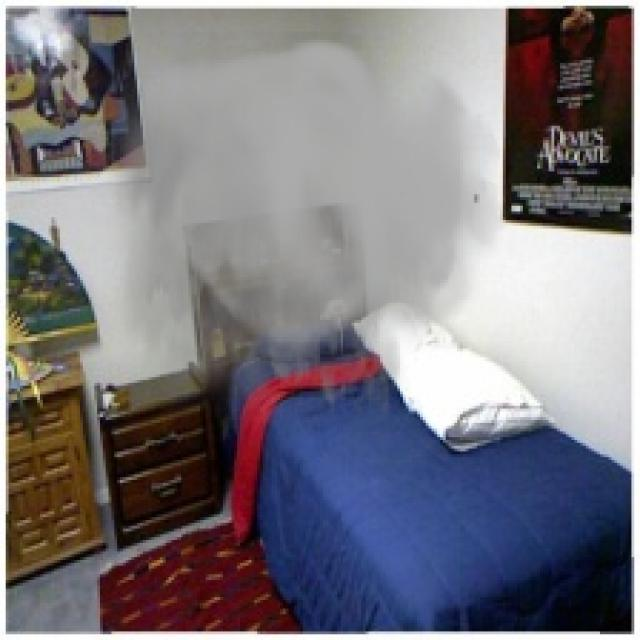Smoke: (91, 32, 506, 457)
